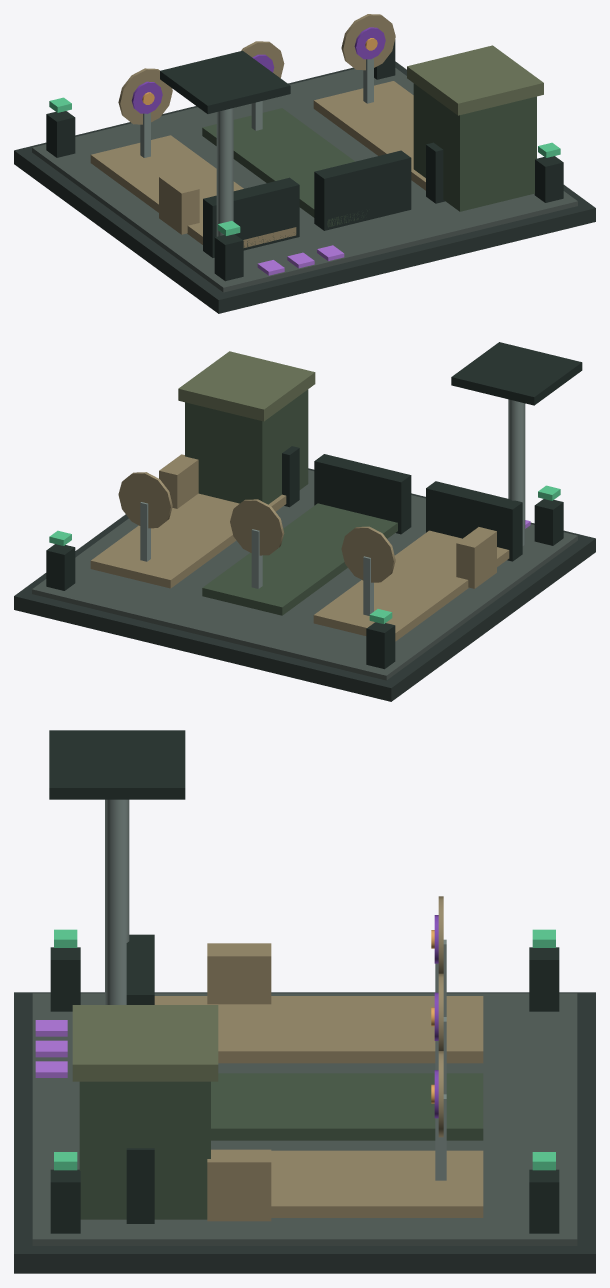
File: ridgewatch_l03.glb
3 renders of one model, top to bottom at view 1: azimuth 30°, elevation 25°; view 2: azimuth 150°, elevation 25°; view 3: azimuth 270°, elevation 25°, orthographic. The views are drawn at different scales.
Parts seen in each view (by area): view 1: ridgewatch_l03; view 2: ridgewatch_l03; view 3: ridgewatch_l03.
Part boxes in pixels (x1=…): ridgewatch_l03: x1=14, y1=14, x2=595, y2=313; ridgewatch_l03: x1=14, y1=342, x2=595, y2=701; ridgewatch_l03: x1=14, y1=730, x2=595, y2=1273.
Size of the model in its own units: 6.6 by 3.32 by 6.2.
